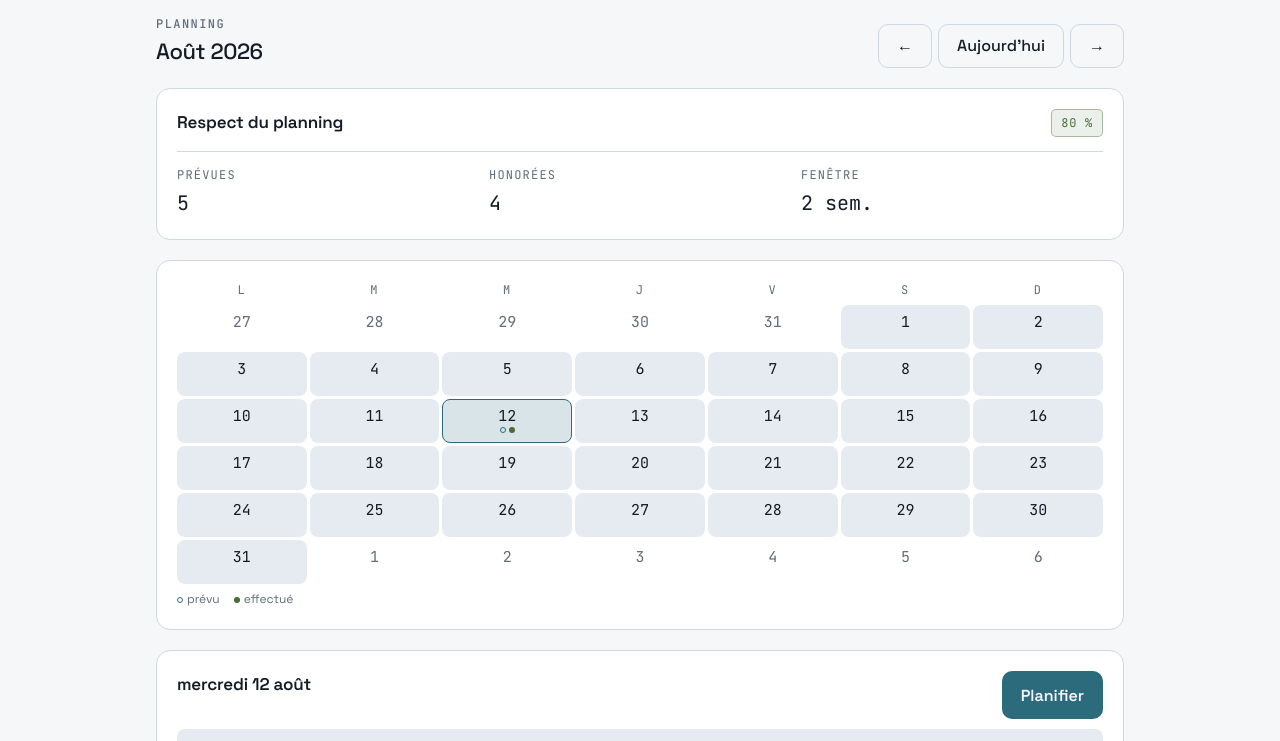
Test case: calendrier mensuel › sélectionne un autre jour au doigt
Expected: the table is shown, [177,281,1103,609]
Step 1. Click the button named "jeudi 20 août" → (640, 468), box [575,446,705,490]
(page scrolled)
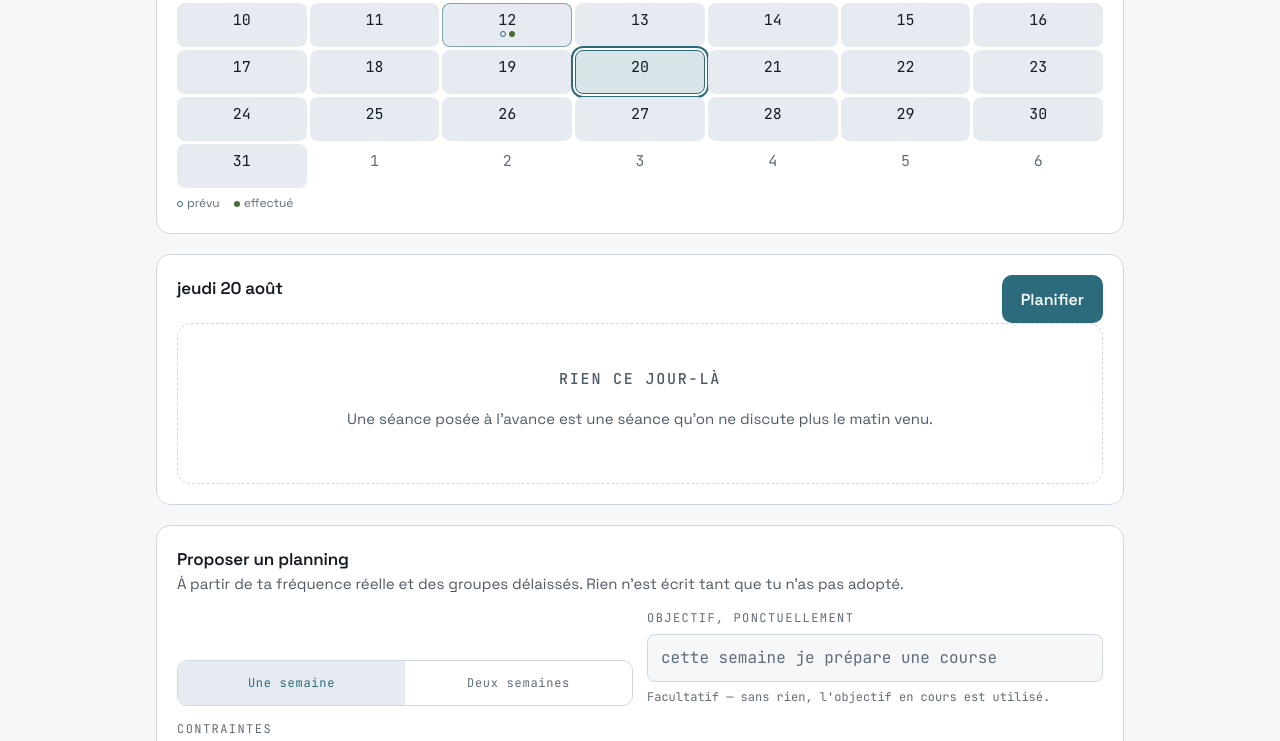
Result: the heading "jeudi 20 août" is shown at [177,277,283,299]
Result: the text "Rien ce jour-là" is shown at [559,369,721,389]
